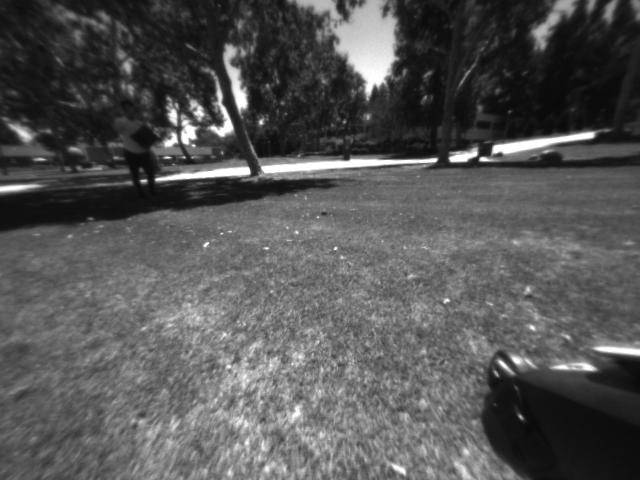dogtoy: (316, 206, 334, 221)
